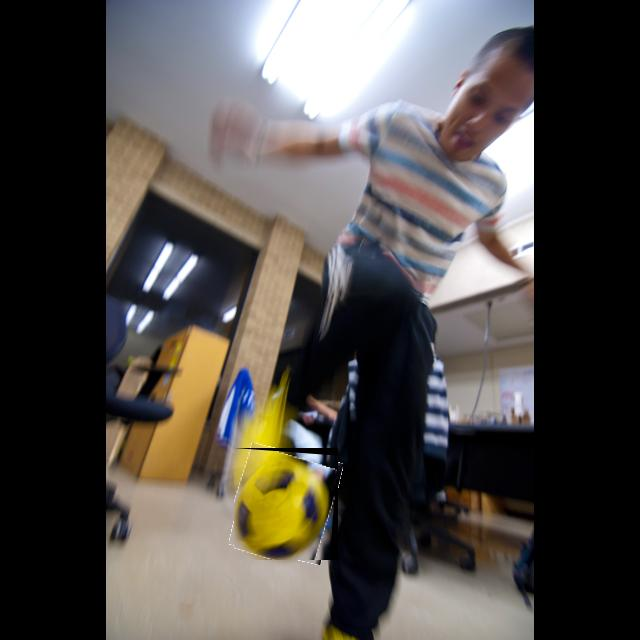Football: (234, 448, 338, 560)
